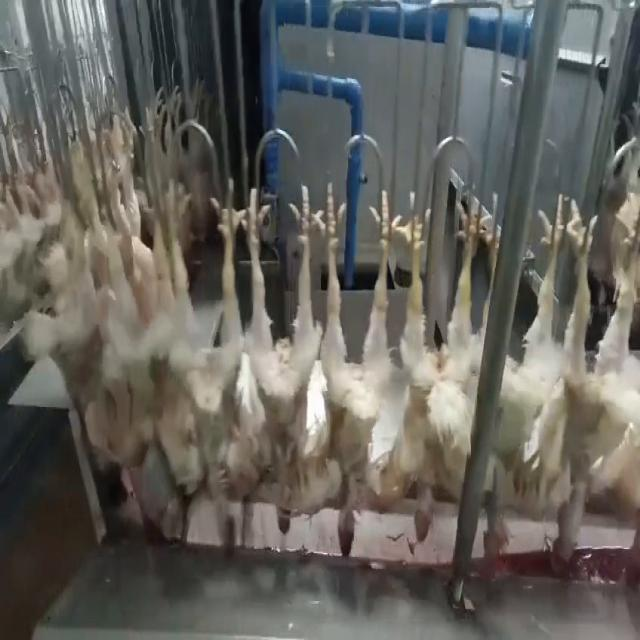chicken: (381, 182, 490, 543), (544, 182, 636, 568), (478, 191, 567, 581), (322, 184, 406, 564), (246, 179, 334, 538), (171, 172, 249, 554), (86, 167, 173, 498)
